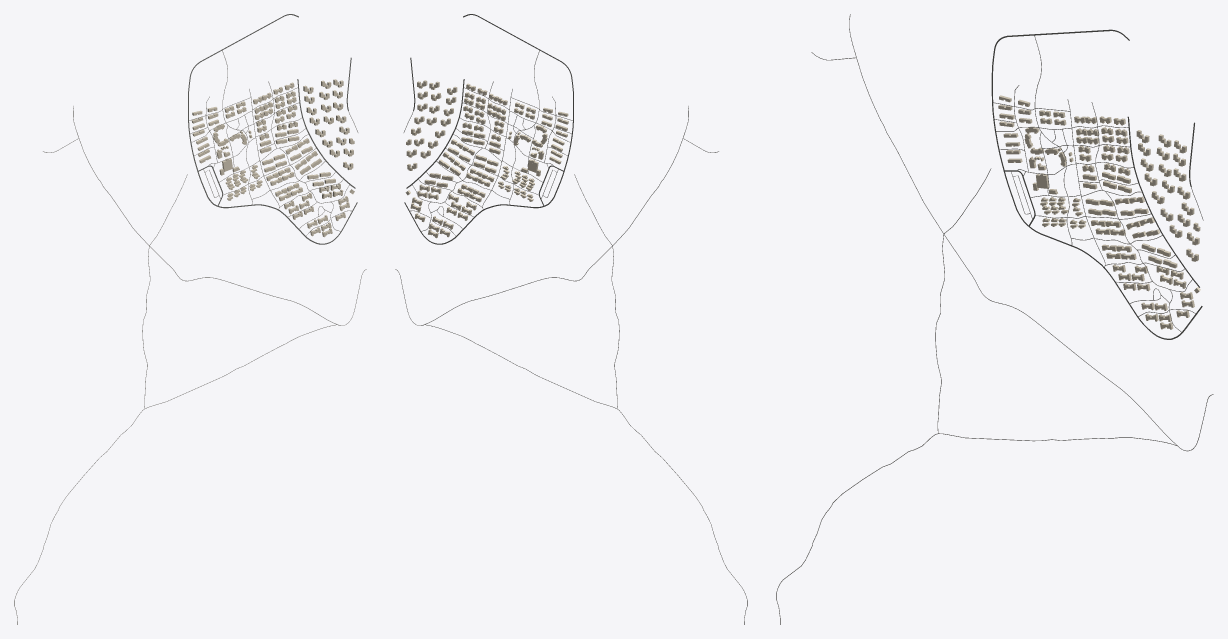
File: historic-palestine-05_18_3470_3123.glb
3 renders of one model, left to right at view 1: azimuth 30°, elevation 25°; view 2: azimuth 150°, elevation 25°; view 3: azimuth 330°, elevation 25°, orthographic. The views are drawn at different scales.
Parts seen in each view (by area): view 1: Road .006; view 2: Road .006; view 3: Road .006, Road דרך הפסלים.
Part boxes in pixels (<box>): Road .006: <box>188,14,357,244</box>; Road .006: <box>404,14,573,244</box>; Road .006: <box>991,29,1202,339</box>; Road דרך הפסלים: <box>849,14,1213,451</box>.
Size of the model in its own units: 1104 by 1632 by 8.7.
